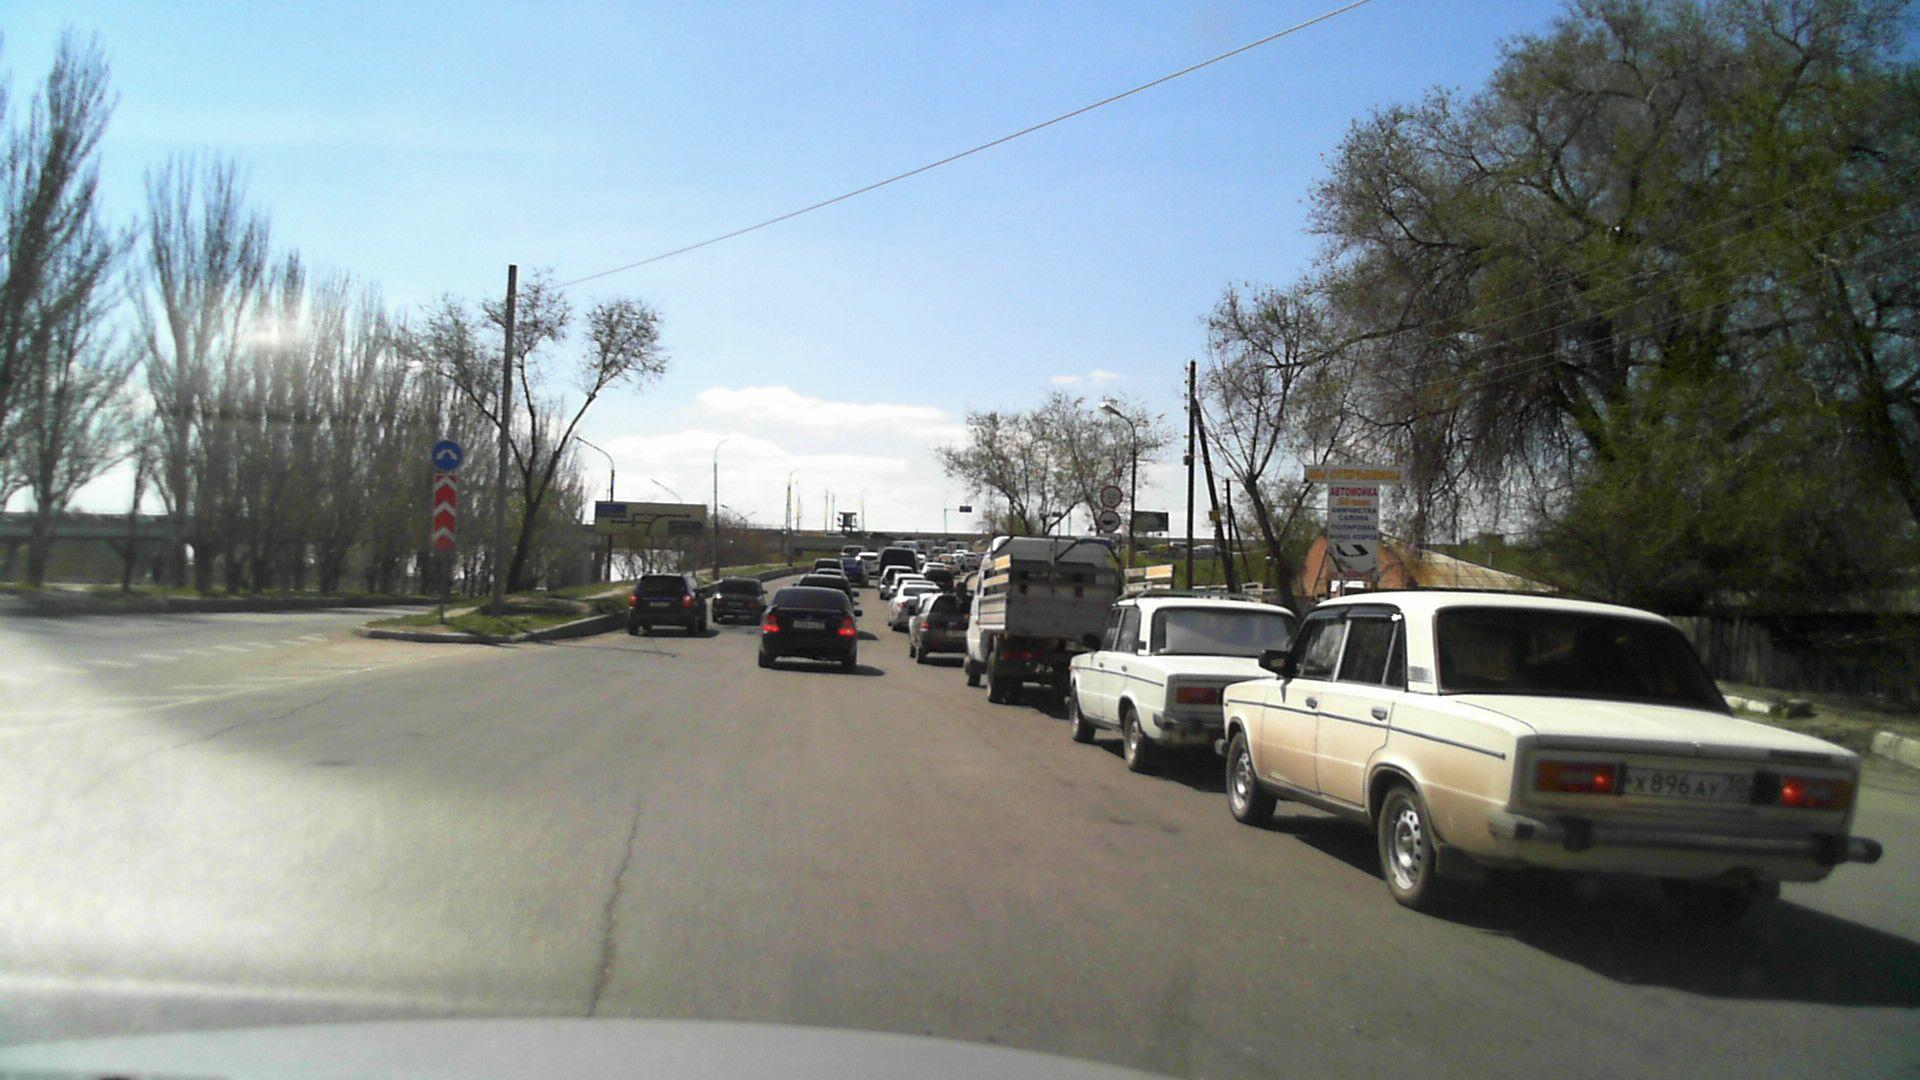3_14: (1101, 485, 1124, 509)
3_6: (1097, 508, 1121, 530)
4_2_3: (429, 435, 464, 472)
6_9_1: (591, 497, 707, 543)
8_22_3: (429, 471, 460, 550)
8_5_4: (1097, 534, 1122, 541)
